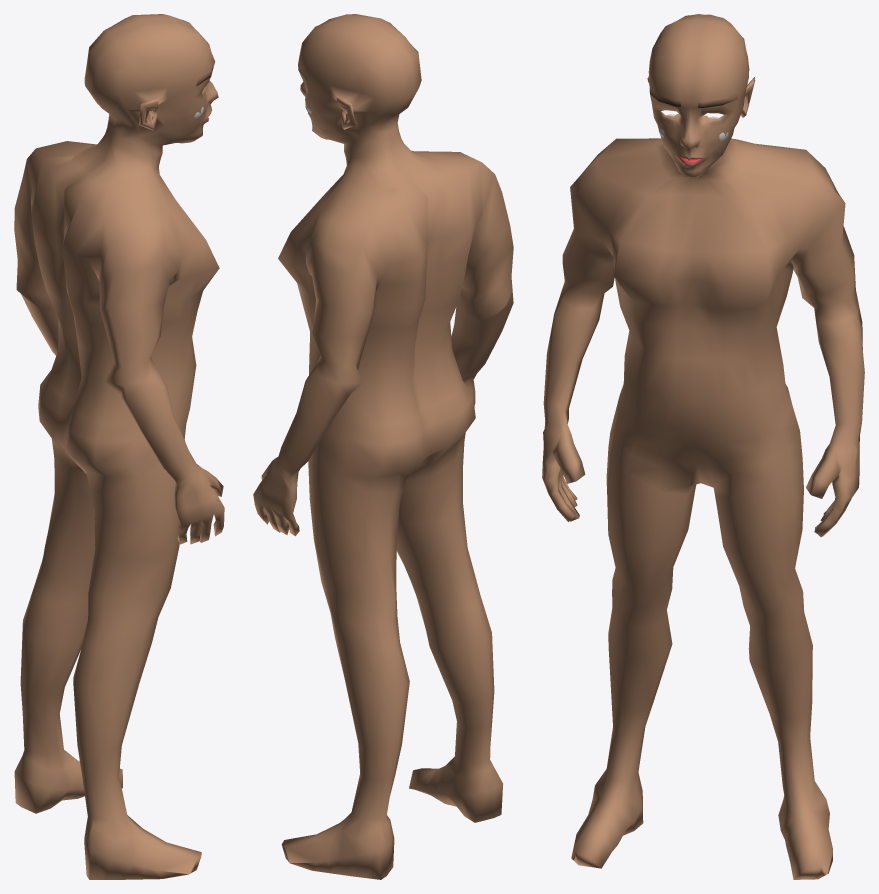
File: boneco1.glb
3 views of the same model, side by side, from view 1: azimuth 30°, elevation 25°; view 2: azimuth 150°, elevation 25°; view 3: azimuth 270°, elevation 25° (orthographic). The views are drawn at different scales.
Parts seen in each view (by area): view 1: Plane.005; view 2: Plane.005; view 3: Plane.005.
Part boxes in pixels (x1=…): Plane.005: x1=14, y1=14, x2=224, y2=879; Plane.005: x1=253, y1=14, x2=513, y2=879; Plane.005: x1=542, y1=14, x2=864, y2=879.
Size of the model in its own units: 0.7455 by 3.47 by 1.2.
